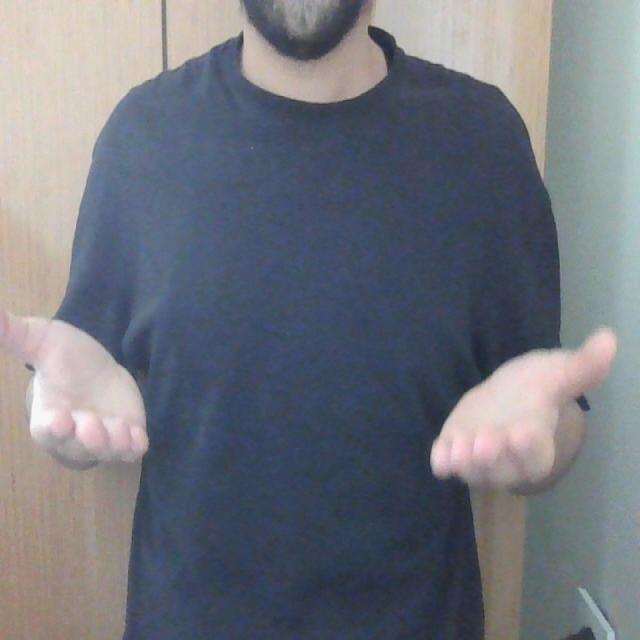Evet: (0, 295, 618, 497)
